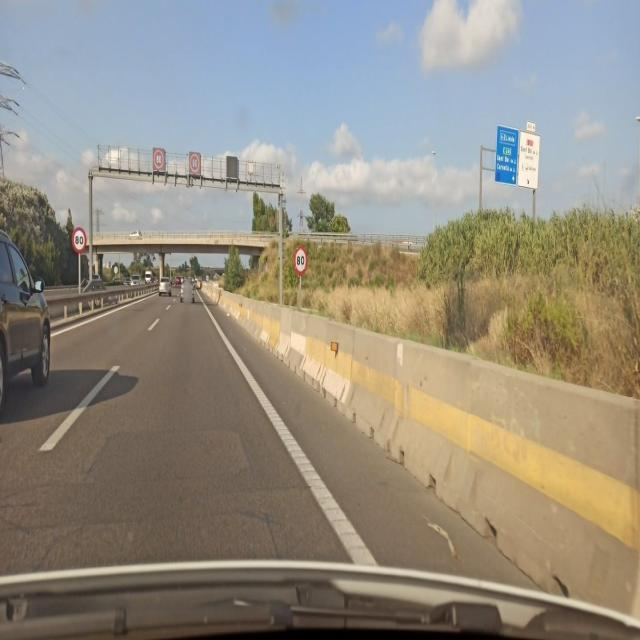car: (0, 219, 51, 425), (158, 276, 172, 296), (144, 271, 153, 284), (174, 275, 182, 287)
